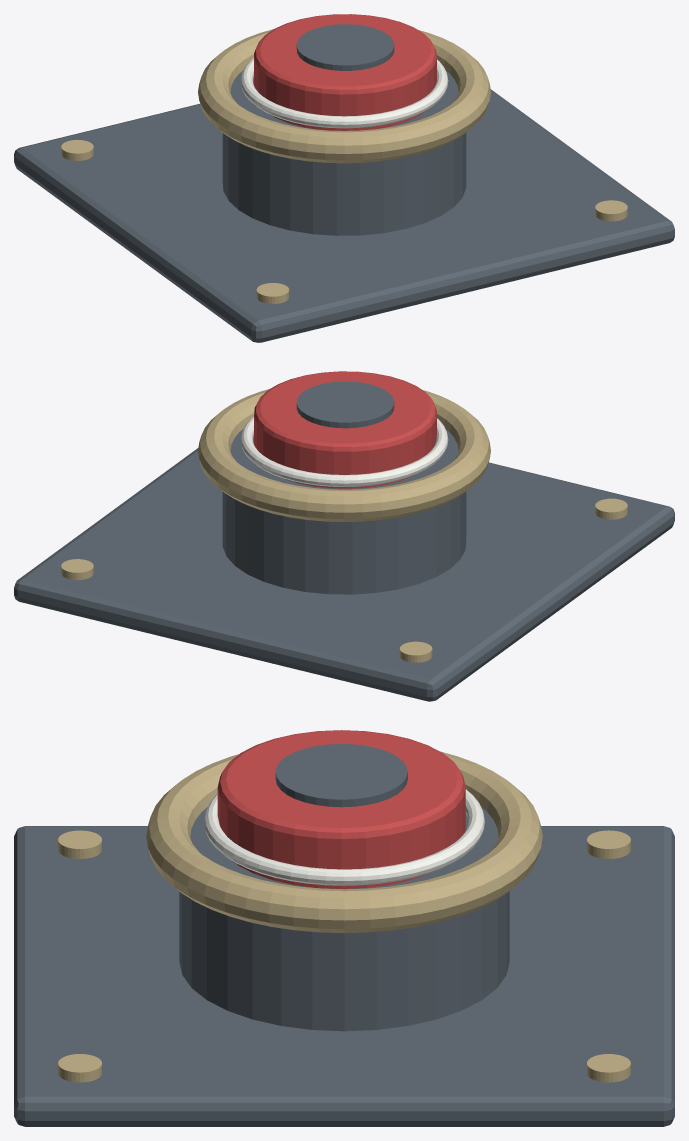
File: mighty button.fbx
3 views of the same model, one above another, from view 1: azimuth 30°, elevation 25°; view 2: azimuth 150°, elevation 25°; view 3: azimuth 270°, elevation 25° (orthographic). The views are drawn at different scales.
Parts seen in each view (by area): view 1: MountingPlate, MainHousing, Bezel, ButtonCap, CapDetail, IndicatorRing, Screws; view 2: MountingPlate, MainHousing, Bezel, ButtonCap, CapDetail, IndicatorRing, Screws; view 3: MountingPlate, MainHousing, Bezel, ButtonCap, CapDetail, IndicatorRing, Screws.
Part boxes in pixels (x1,y1,x2,y2): MountingPlate: [14, 89, 674, 342]; MainHousing: [222, 70, 466, 235]; Bezel: [198, 29, 490, 163]; ButtonCap: [254, 14, 436, 130]; CapDetail: [296, 24, 394, 70]; IndicatorRing: [240, 58, 448, 128]; Screws: [61, 140, 627, 303]; MountingPlate: [14, 448, 674, 701]; MainHousing: [222, 429, 466, 594]; Bezel: [198, 389, 490, 521]; ButtonCap: [254, 371, 436, 488]; CapDetail: [296, 381, 394, 428]; IndicatorRing: [240, 416, 448, 486]; Screws: [61, 498, 627, 662]; MountingPlate: [14, 826, 674, 1126]; MainHousing: [179, 807, 509, 1031]; Bezel: [146, 751, 542, 932]; ButtonCap: [217, 730, 465, 888]; CapDetail: [275, 744, 407, 807]; IndicatorRing: [204, 789, 484, 885]; Screws: [58, 830, 630, 1082].
Size of the model in its own units: 12 by 4.4 by 12.
